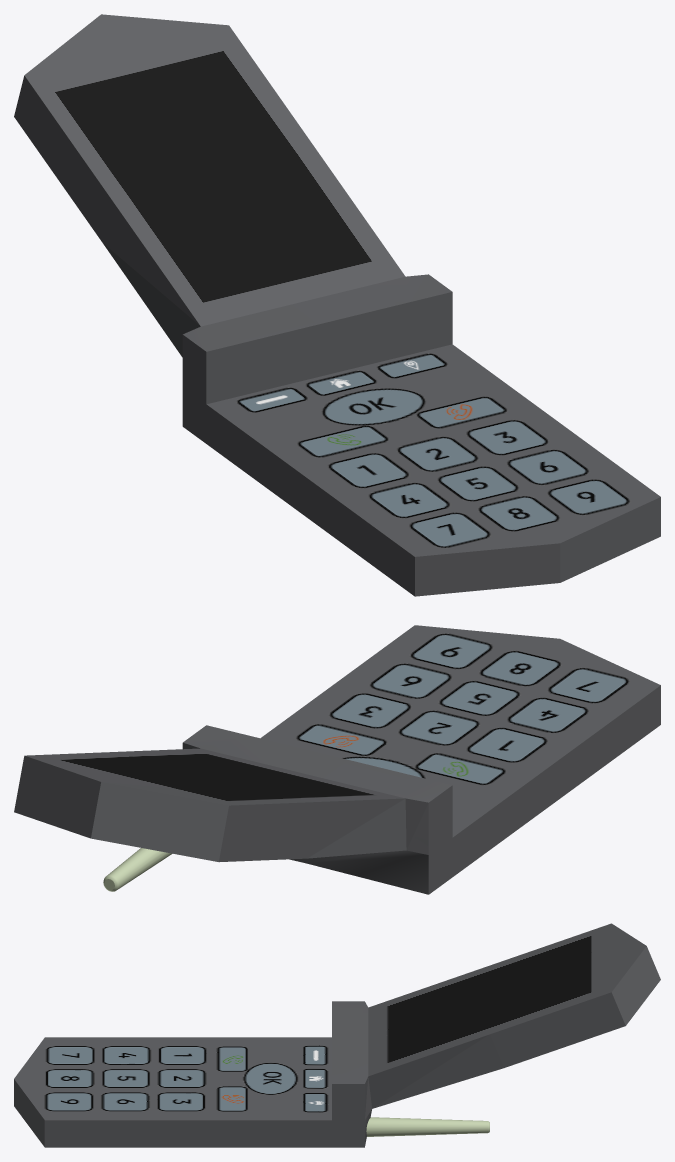
File: 핸드폰.fbx
3 renders of one model, top to bottom at view 1: azimuth 30°, elevation 25°; view 2: azimuth 150°, elevation 25°; view 3: azimuth 270°, elevation 25°, orthographic. The views are drawn at different scales.
Parts seen in each view (by area): view 1: Cylinder001; view 2: Cylinder001; view 3: Cylinder001.
Boxes of the visible parts, <box> form: Cylinder001: <box>14,14,660,596</box>; Cylinder001: <box>14,625,660,894</box>; Cylinder001: <box>14,923,660,1147</box>.
Size of the model in its own units: 9.83 by 8.88 by 32.48.
